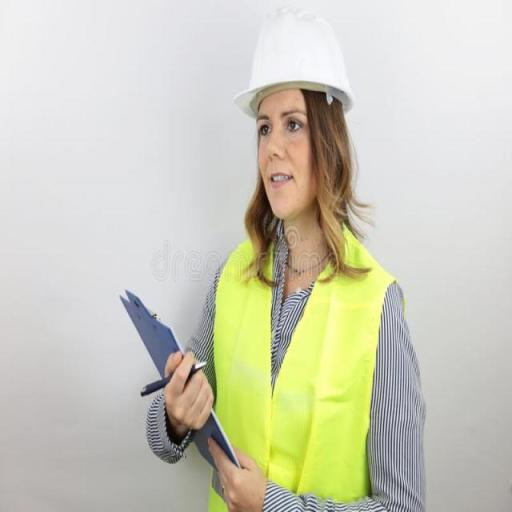helmet: (234, 5, 356, 125)
vest: (203, 224, 399, 508)
